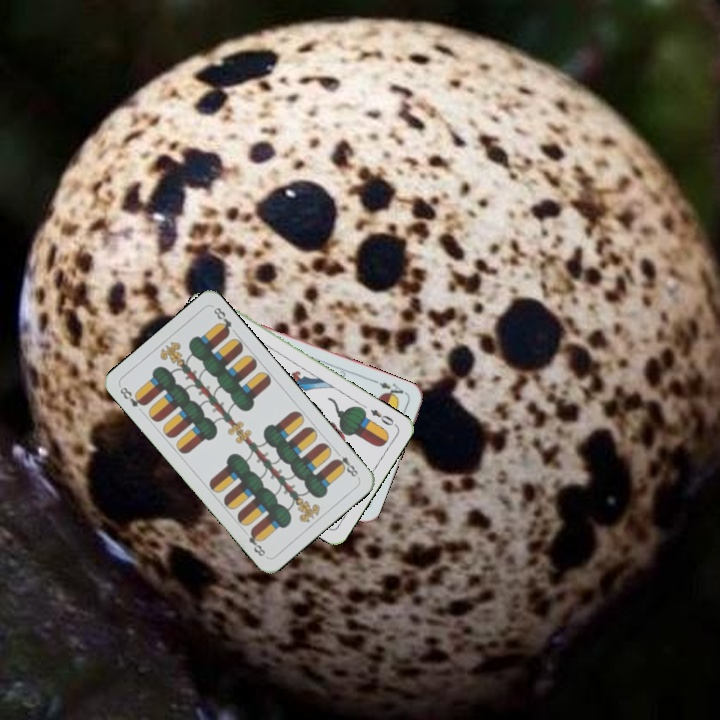E8: (330, 446, 361, 479), (116, 383, 149, 410)
EA: (371, 376, 410, 402)
EO: (366, 405, 399, 429)
